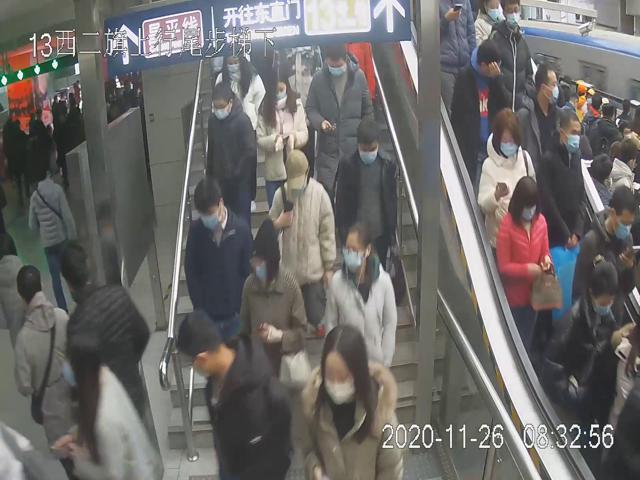person: (237, 214, 311, 403), (322, 216, 400, 386), (183, 175, 257, 350), (266, 148, 337, 327), (493, 173, 558, 355), (305, 43, 376, 197), (332, 121, 401, 274), (474, 105, 539, 251), (204, 83, 258, 226), (256, 65, 309, 209), (211, 48, 264, 137)
